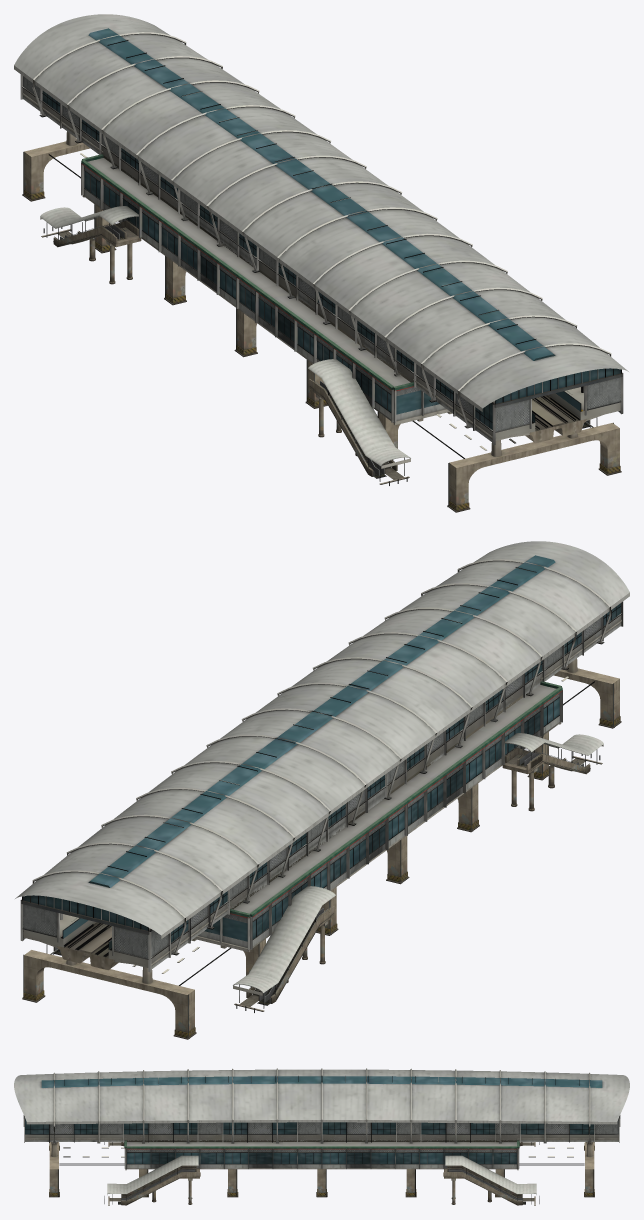
The model's file is metro_station.glb.
3 renders of one model, top to bottom at view 1: azimuth 30°, elevation 25°; view 2: azimuth 150°, elevation 25°; view 3: azimuth 270°, elevation 25°, orthographic. The views are drawn at different scales.
Visible parts, largest first — view 1: body; view 2: body; view 3: body.
Boxes of the visible parts, box(x1,y1,x2,y2) form: body: box(14, 14, 628, 512); body: box(15, 541, 629, 1039); body: box(14, 1068, 629, 1205).
Bounding box in the file's own units: 38.24 × 24.22 × 145.
1 material, 1 textured.
